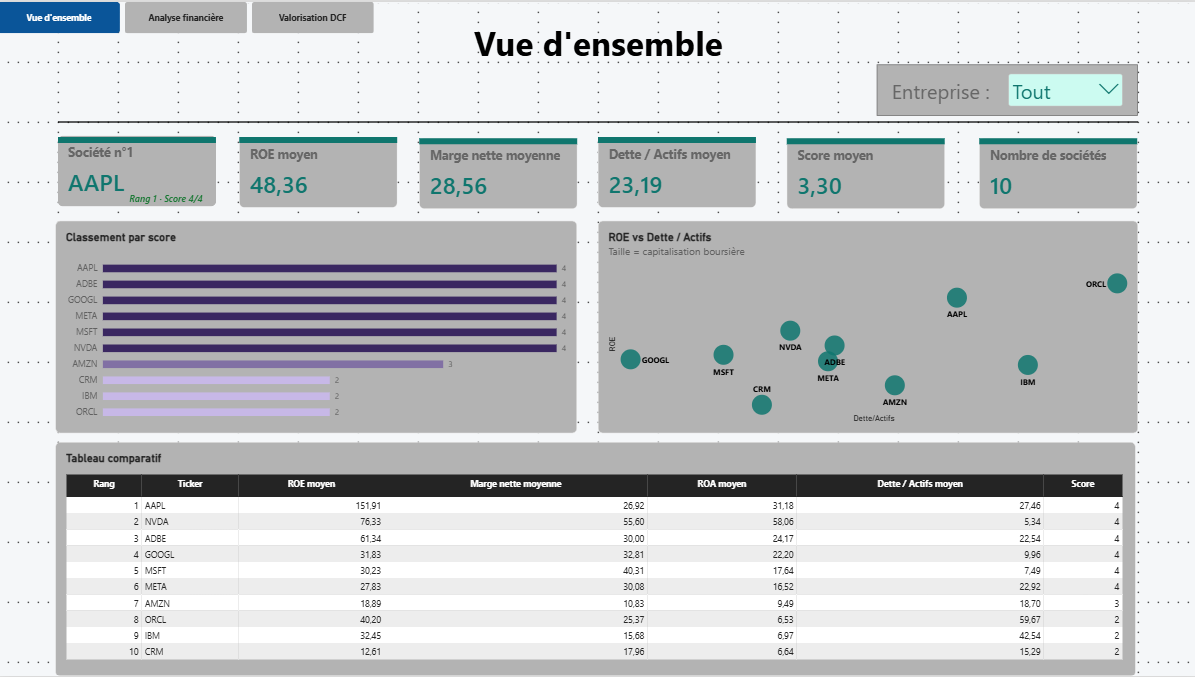

What the dashboard file says about the page in this screenshot:
{"tool":"powerbi","page":{"name":"Vue d'ensemble","canvas":[1920,1080],"ordinal":0},"visuals":[{"type":"group","id":"g1","title":"Groupe 3","box":[96,214.1,254,114],"z":0,"group":"g9"},{"type":"cardVisual","title":"Prix actuel","fields":{"Data":["public tableau_financier.Meilleure Entreprise"]},"box":[96,214.1,253,113],"z":0,"group":"g1"},{"type":"cardVisual","title":"Prix actuel","fields":{"Data":["Avg(public tableau_financier.roe_moyen)"]},"box":[386,216.1,253,113.3],"z":0,"group":"g5"},{"type":"cardVisual","title":"Prix actuel","fields":{"Data":["Avg(public tableau_financier.dette_sur_actif_moyen)"]},"box":[960,216.1,253,113.3],"z":0,"group":"g6"},{"type":"cardVisual","title":"Prix actuel","fields":{"Data":["Avg(public tableau_financier.marge_nette_moyenne)"]},"box":[674,218.1,253,113.3],"z":0,"group":"g7"},{"type":"cardVisual","title":"Prix actuel","fields":{"Data":["Avg(public tableau_financier.score)"]},"box":[1262,218.1,253,113.3],"z":0,"group":"g8"},{"type":"cardVisual","title":"Prix actuel","fields":{"Data":["CountNonNull(public tableau_financier.ticker)"]},"box":[1570,218.1,253,113.3],"z":0,"group":"g4"},{"type":"cardVisual","title":"Prix actuel","fields":{"Data":["public tableau_financier.Meilleure Entreprise Detail"]},"box":[194,292.1,156,36],"z":0,"group":"g2"},{"type":"shape","box":[96,168,1728,48],"z":1000},{"type":"shape","box":[96,216.1,252.7,9.7],"z":1000,"group":"g3"},{"type":"shape","box":[386.4,216.1,252.7,9.7],"z":1000,"group":"g5"},{"type":"shape","box":[960.4,216.1,252.7,9.7],"z":1000,"group":"g6"},{"type":"shape","box":[674.4,218.1,252.7,9.7],"z":1000,"group":"g7"},{"type":"shape","box":[1262.4,218.1,252.7,9.7],"z":1000,"group":"g8"},{"type":"shape","box":[1570.4,218.1,252.7,9.7],"z":1000,"group":"g4"},{"type":"group","id":"g2","title":"Groupe 3","box":[194,292.1,156,36],"z":1000,"group":"g9"},{"type":"shape","box":[1405,100,417.5,82],"z":2000},{"type":"group","id":"g3","title":"Groupe 3","box":[96,216.1,254,10],"z":2000,"group":"g9"},{"type":"textbox","box":[1429,120.3,168,43.7],"z":3000},{"type":"slicer","fields":{"Values":["public tableau_financier.ticker"]},"box":[1612.5,109.1,192,65.6],"z":4000},{"type":"group","id":"g4","title":"Groupe 3","box":[1570,218.1,254,110],"z":5000},{"type":"group","id":"g5","title":"Groupe 3","box":[386,216.1,254,112],"z":6000},{"type":"group","id":"g6","title":"Groupe 3","box":[960,216.1,254,112],"z":7000},{"type":"group","id":"g7","title":"Groupe 3","box":[674,218.1,252,112],"z":8000},{"type":"group","id":"g8","title":"Groupe 3","box":[1262,218.1,252,112],"z":9000},{"type":"barChart","title":"Classement par score","fields":{"Category":["public tableau_financier.ticker"],"Y":["Sum(public tableau_financier.score)"]},"box":[92,350,834,340],"z":11000},{"type":"scatterChart","title":"ROE vs Dette / Actifs","fields":{"Category":["public ratios_financiers.ticker"],"Size":["Sum(public valorisation_societes.Capit. boursière)"],"X":["Sum(public ratios_financiers.Dette / Actifs)"],"Y":["Sum(public ratios_financiers.ROE)"]},"box":[960,350,864,340],"z":12000},{"type":"tableEx","title":"Tableau comparatif","fields":{"Values":["public screener_societes.rang","public screener_societes.ticker","Sum(public tableau_financier.roe_moyen)","Sum(public tableau_financier.marge_nette_moyenne)","Sum(public tableau_financier.roa_moyen)","Sum(public tableau_financier.dette_sur_actif_moyen)","Sum(public tableau_financier.score)"]},"box":[92,704,1728,376],"z":13000},{"type":"group","id":"g9","title":"Groupe 1","box":[96,214.1,254,114],"z":14002},{"type":"pageNavigator","box":[0,0,602.5,50],"z":14003},{"type":"textbox","box":[497.5,27.5,925,82.5],"z":14004}]}

Visuals, with their boxes in screenshot pixels (x1, y1, x2, y2), scaled from the page's 1920x1080 canvas onto the 1195x677 screenshot:
"Groupe 3" group: (left=60, top=134, right=218, bottom=206)
"Prix actuel" cardVisual: (left=60, top=134, right=217, bottom=205)
"Prix actuel" cardVisual: (left=240, top=135, right=398, bottom=206)
"Prix actuel" cardVisual: (left=598, top=135, right=755, bottom=206)
"Prix actuel" cardVisual: (left=419, top=137, right=577, bottom=208)
"Prix actuel" cardVisual: (left=785, top=137, right=943, bottom=208)
"Prix actuel" cardVisual: (left=977, top=137, right=1135, bottom=208)
"Prix actuel" cardVisual: (left=121, top=183, right=218, bottom=206)
shape: (left=60, top=105, right=1135, bottom=135)
shape: (left=60, top=135, right=217, bottom=142)
shape: (left=240, top=135, right=398, bottom=142)
shape: (left=598, top=135, right=755, bottom=142)
shape: (left=420, top=137, right=577, bottom=143)
shape: (left=786, top=137, right=943, bottom=143)
shape: (left=977, top=137, right=1135, bottom=143)
"Groupe 3" group: (left=121, top=183, right=218, bottom=206)
shape: (left=874, top=63, right=1134, bottom=114)
"Groupe 3" group: (left=60, top=135, right=218, bottom=142)
textbox: (left=889, top=75, right=994, bottom=103)
slicer - public tableau_financier.ticker: (left=1004, top=68, right=1123, bottom=110)
"Groupe 3" group: (left=977, top=137, right=1135, bottom=206)
"Groupe 3" group: (left=240, top=135, right=398, bottom=206)
"Groupe 3" group: (left=598, top=135, right=756, bottom=206)
"Groupe 3" group: (left=419, top=137, right=576, bottom=207)
"Groupe 3" group: (left=785, top=137, right=942, bottom=207)
"Classement par score" barChart: (left=57, top=219, right=576, bottom=433)
"ROE vs Dette / Actifs" scatterChart: (left=598, top=219, right=1135, bottom=433)
"Tableau comparatif" tableEx: (left=57, top=441, right=1133, bottom=676)
"Groupe 1" group: (left=60, top=134, right=218, bottom=206)
pageNavigator: (left=0, top=0, right=375, bottom=31)
textbox: (left=310, top=17, right=885, bottom=69)
